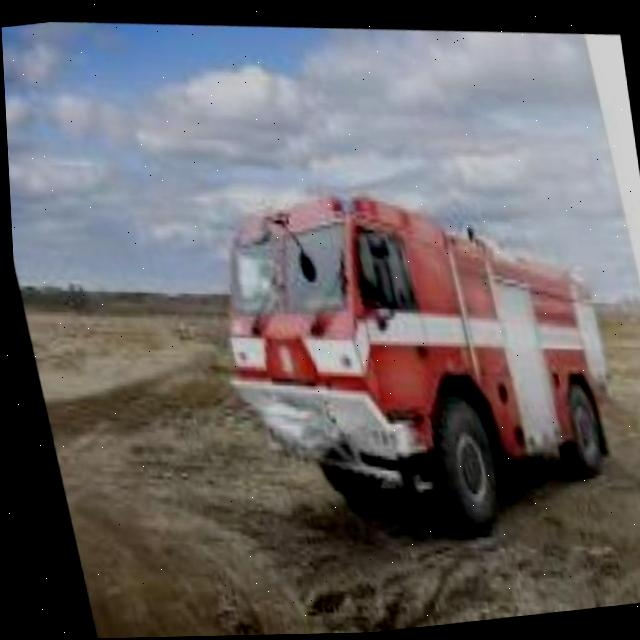emergency: (200, 164, 628, 563)
